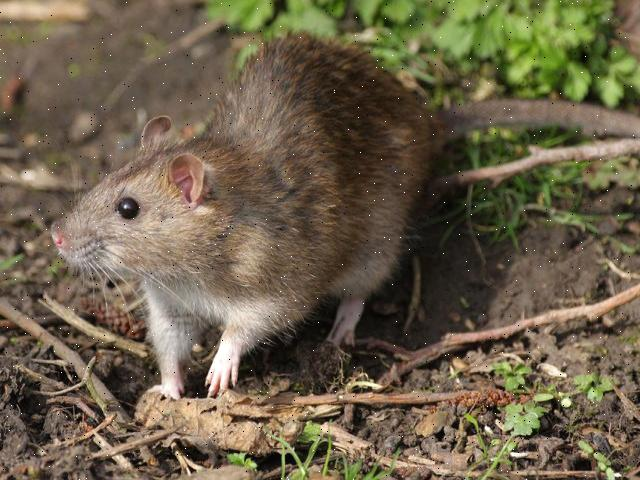Tikus: (52, 30, 440, 394)
